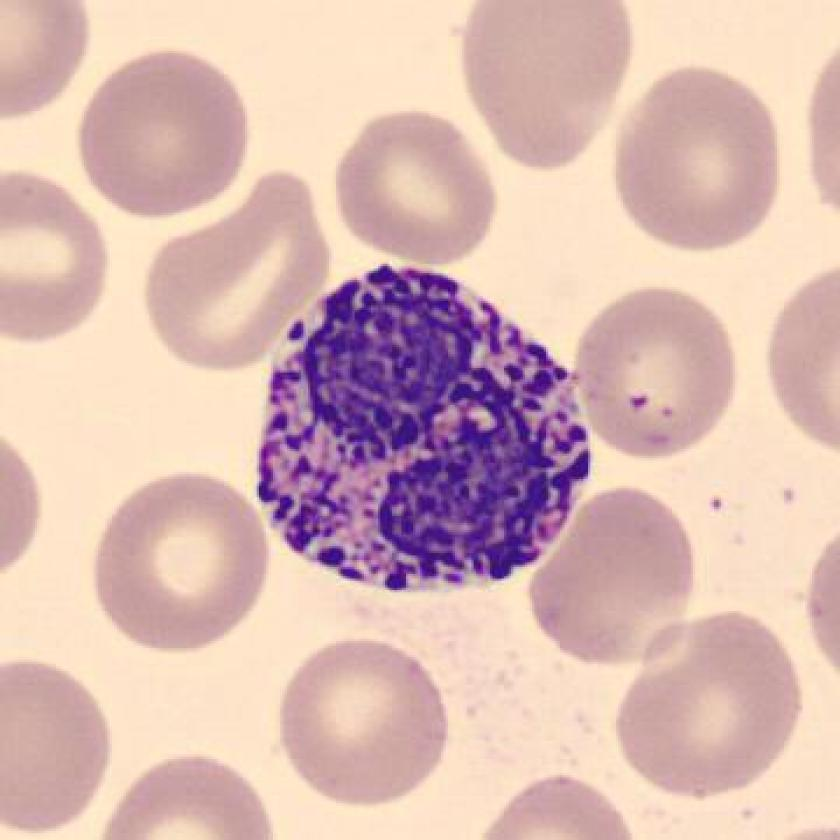basophil: (256, 256, 592, 591)
